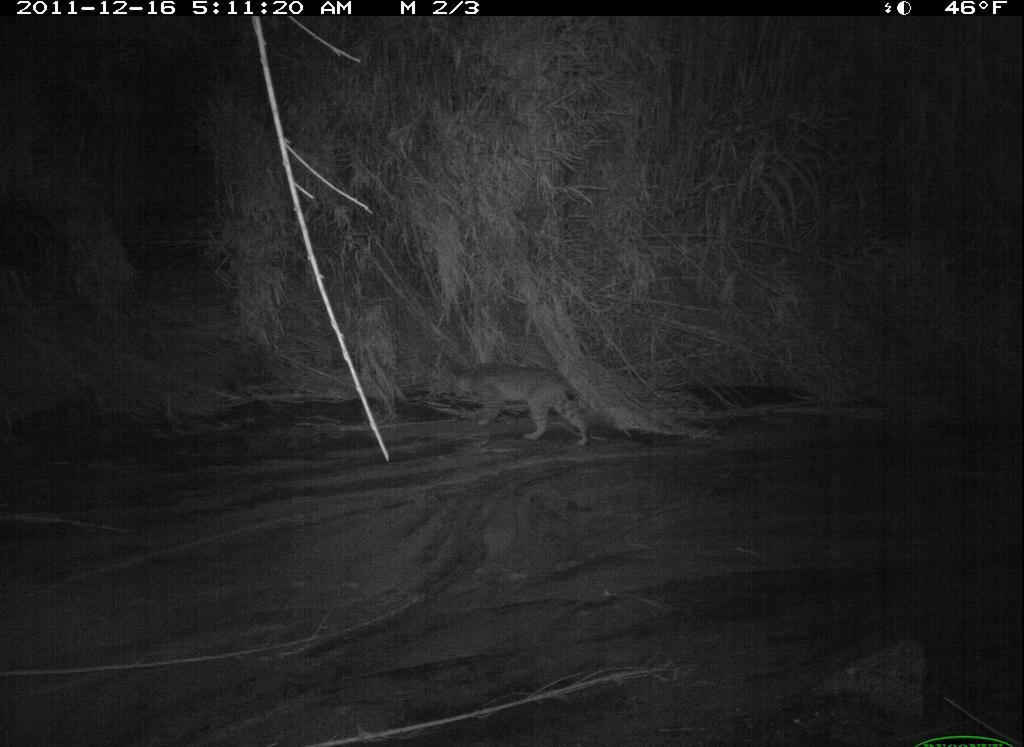bobcat: (446, 355, 597, 461)
